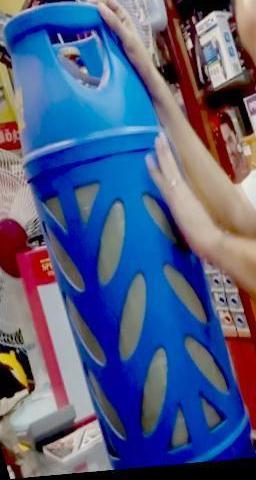cylinder: (1, 1, 256, 480)
